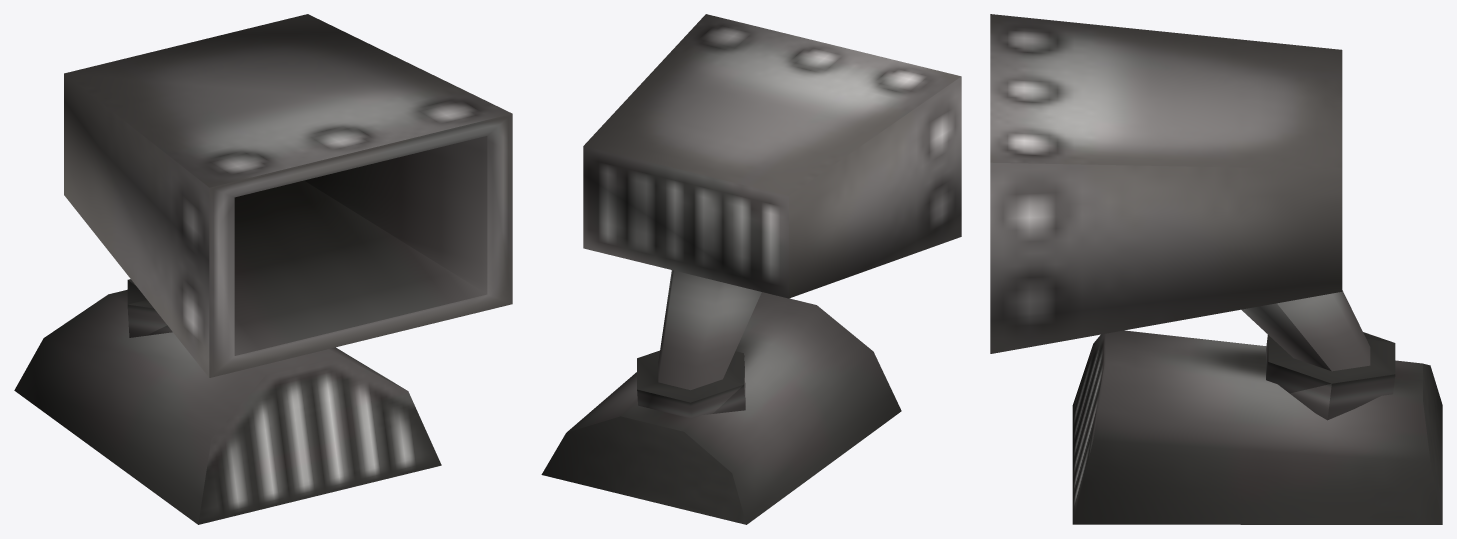
Rendered from acc_6.glb.
3 views of the same model, side by side, from view 1: azimuth 30°, elevation 25°; view 2: azimuth 150°, elevation 25°; view 3: azimuth 270°, elevation 25° (orthographic). The views are drawn at different scales.
Parts seen in each view (by area): view 1: vertex, polySurface1; view 2: vertex, polySurface1; view 3: vertex, polySurface1.
Boxes of the visible parts, <box> form: vertex: <box>64,14,512,377</box>; polySurface1: <box>14,279,441,524</box>; vertex: <box>583,14,961,298</box>; polySurface1: <box>541,270,901,524</box>; vertex: <box>990,14,1342,353</box>; polySurface1: <box>1072,290,1442,524</box>.
Bounding box in the file's own units: 0.2651 × 0.3131 × 0.3408.
1 material, 1 textured.
